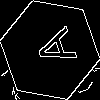A: (25, 25, 77, 73)
